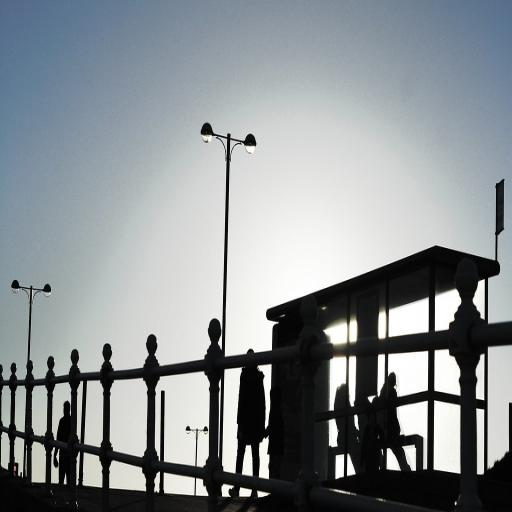off street light: (202, 112, 258, 441), (9, 275, 59, 477)
